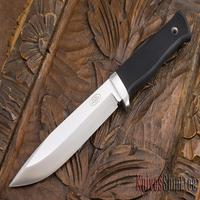knife: (5, 15, 188, 193)
